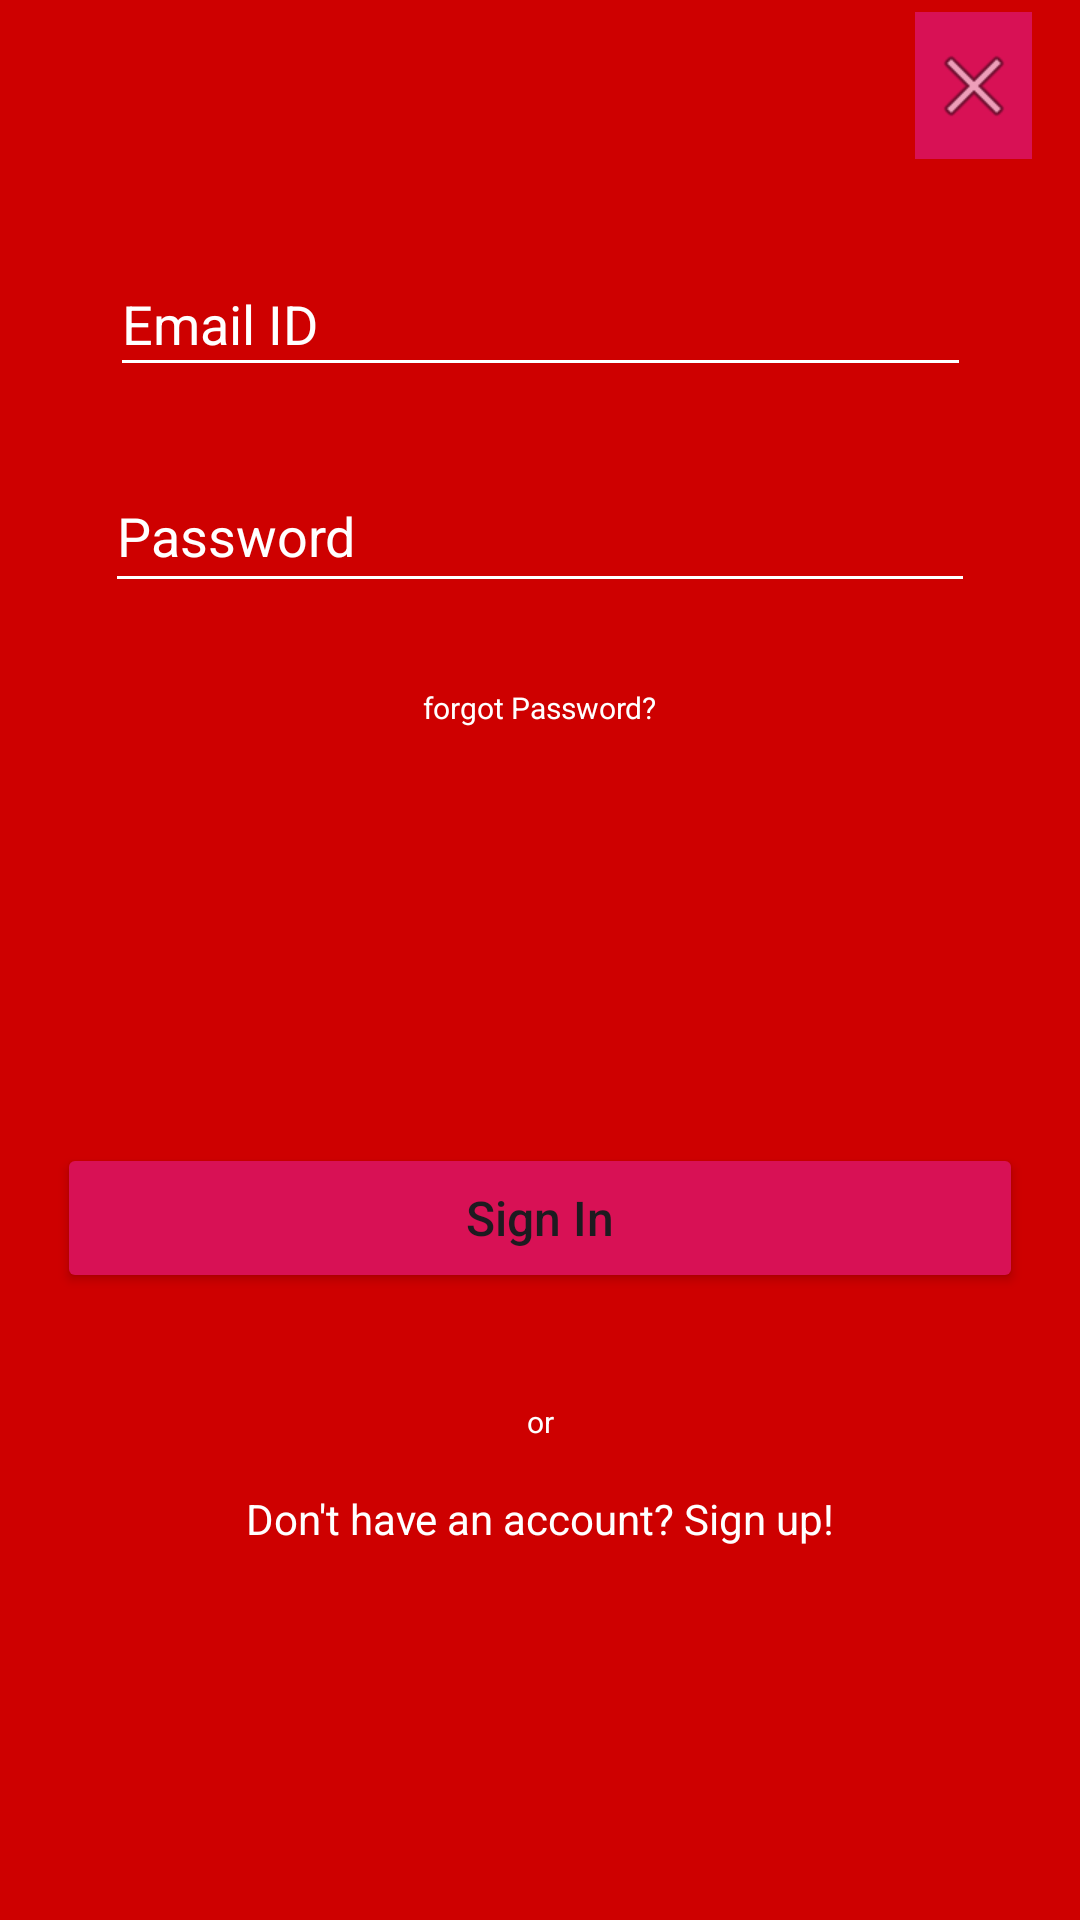

Screen size 1080px x 1920px. Icon name, then its center in pixels as (x,y):
close clear cancel: (973,85)
